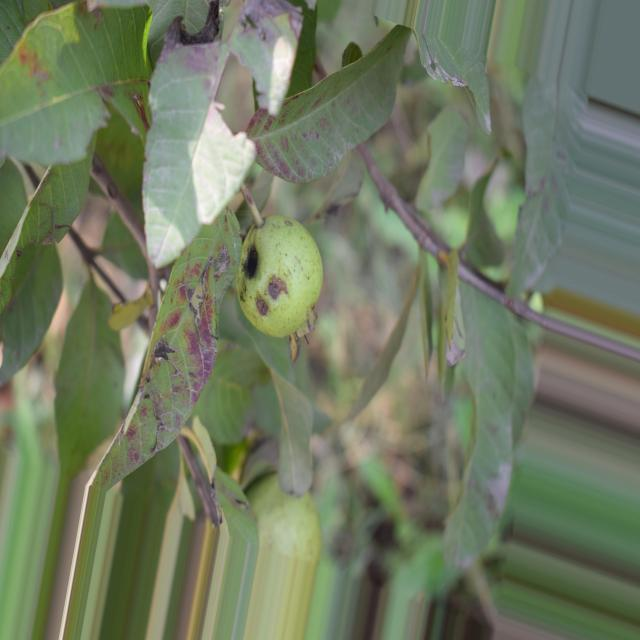Canker: (142, 0, 302, 266), (94, 210, 241, 491), (0, 2, 151, 165)
